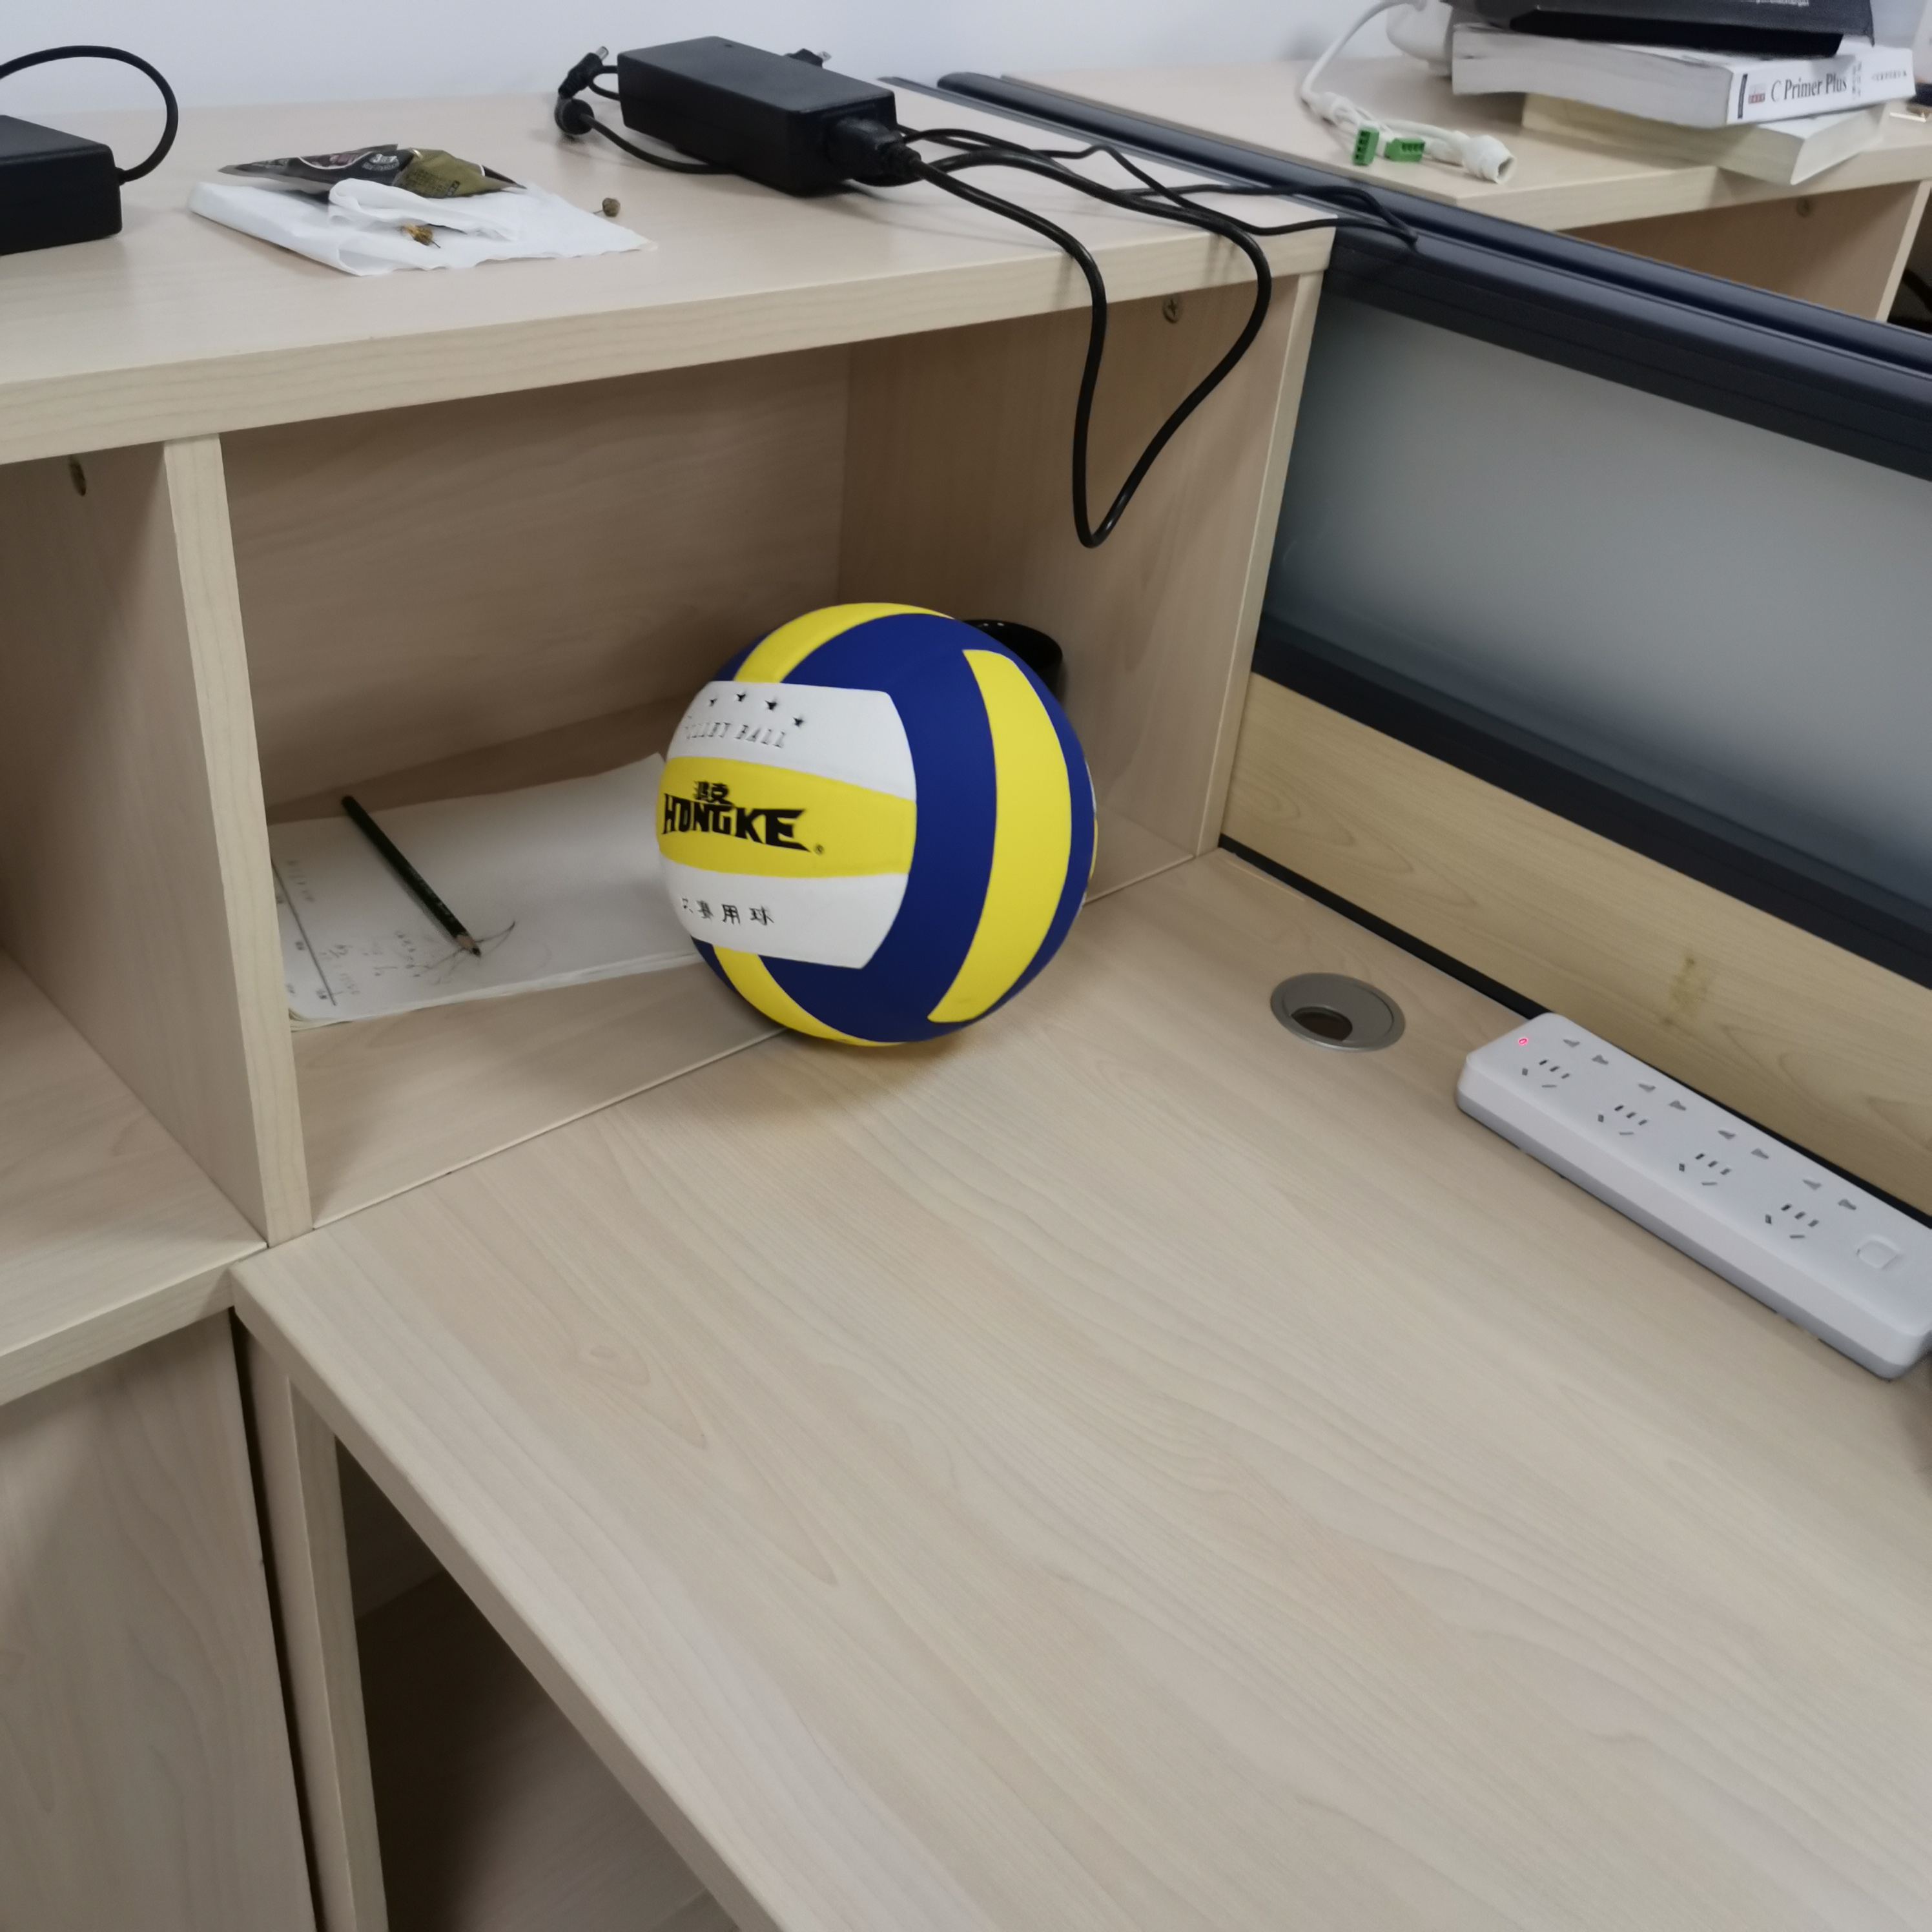volleyball: (658, 598, 1099, 1046)
